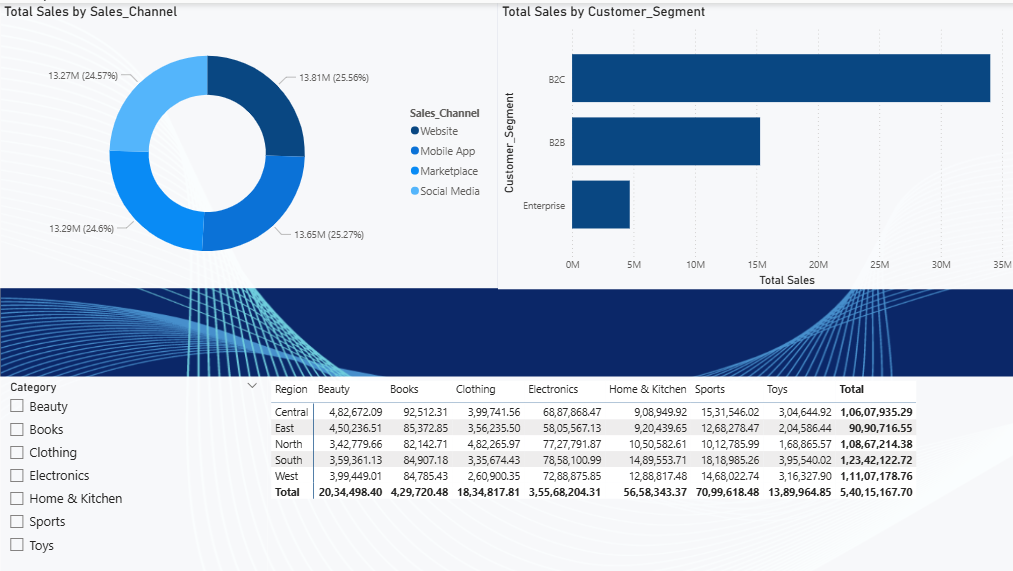

This screenshot's page, from the dashboard's own definition file:
{"tool":"powerbi","page":{"name":"Page 2","canvas":[1280,720],"ordinal":1},"visuals":[{"type":"donutChart","fields":{"Category":["Orders.Sales_Channel"],"Y":["Orders.Total Sales"]},"box":[0,0,627.4,359.1],"z":0},{"type":"pivotTable","fields":{"Rows":["Orders.Region"],"Columns":["Orders.Category"],"Values":["Orders.Total Sales"]},"box":[336.4,470.6,943,249.5],"z":1000},{"type":"barChart","fields":{"Category":["Orders.Customer_Segment"],"Y":["Orders.Total Sales"]},"box":[627.4,0,652,360.9],"z":2000},{"type":"slicer","fields":{"Values":["Orders.Category"]},"box":[0,470.6,336.4,249.5],"z":3000}]}

Visuals, with their boxes in screenshot pixels (x1, y1, x2, y2), scaled from the page's 1280x720 canvas onto the 1013x571 screenshot:
donutChart - Orders.Sales_Channel x Orders.Total Sales: Rect(0, 0, 497, 285)
pivotTable - Orders.Region x Orders.Category: Rect(266, 373, 1012, 570)
barChart - Orders.Customer_Segment x Orders.Total Sales: Rect(497, 0, 1012, 286)
slicer - Orders.Category: Rect(0, 373, 266, 570)
